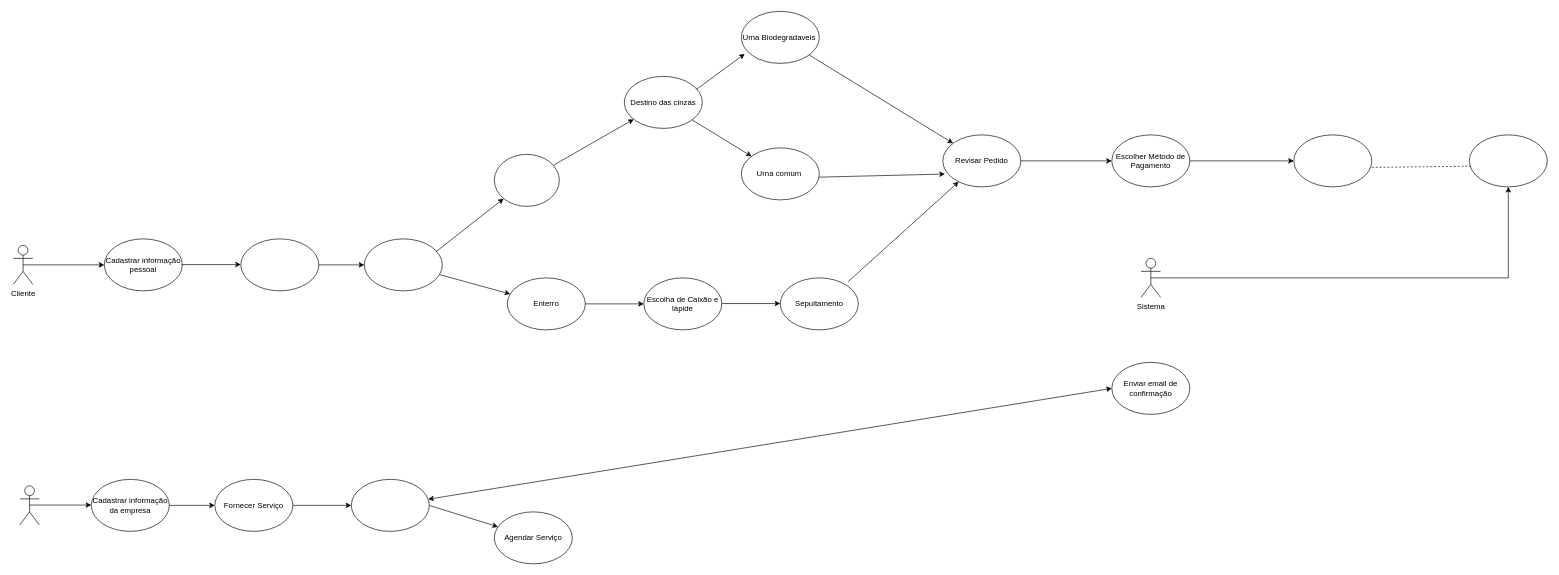
Some shapes in this 1559 by 575 pixel diagram are drawn without their labels. The centre of each missing label's shape, as x and y in pixels:
Aguardar email de confirmação: (390,505)
Cadastrar informações do PET: (279,264)
Cremação: (526,180)
Escolher Serviço: (403,264)
Funerária: (29,505)
Preencher dados de pagamento: (1332,160)
Verificar Pagamento: (1508,160)
